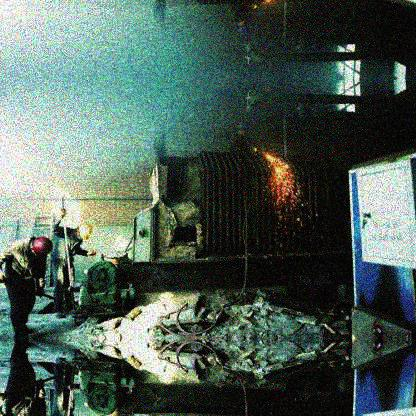helmet: (27, 237, 54, 260), (73, 224, 93, 241)
